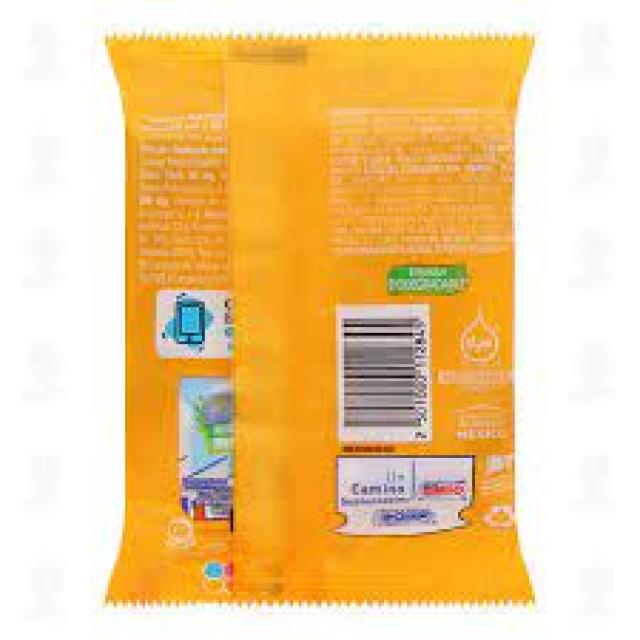Codigo_barras: (337, 307, 434, 445)
